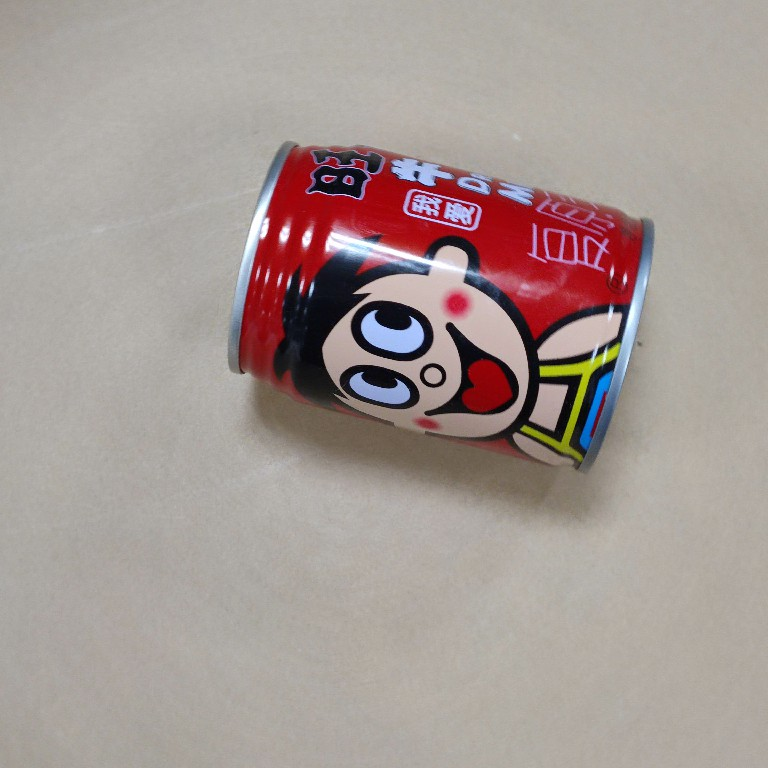can: (224, 137, 658, 478)
